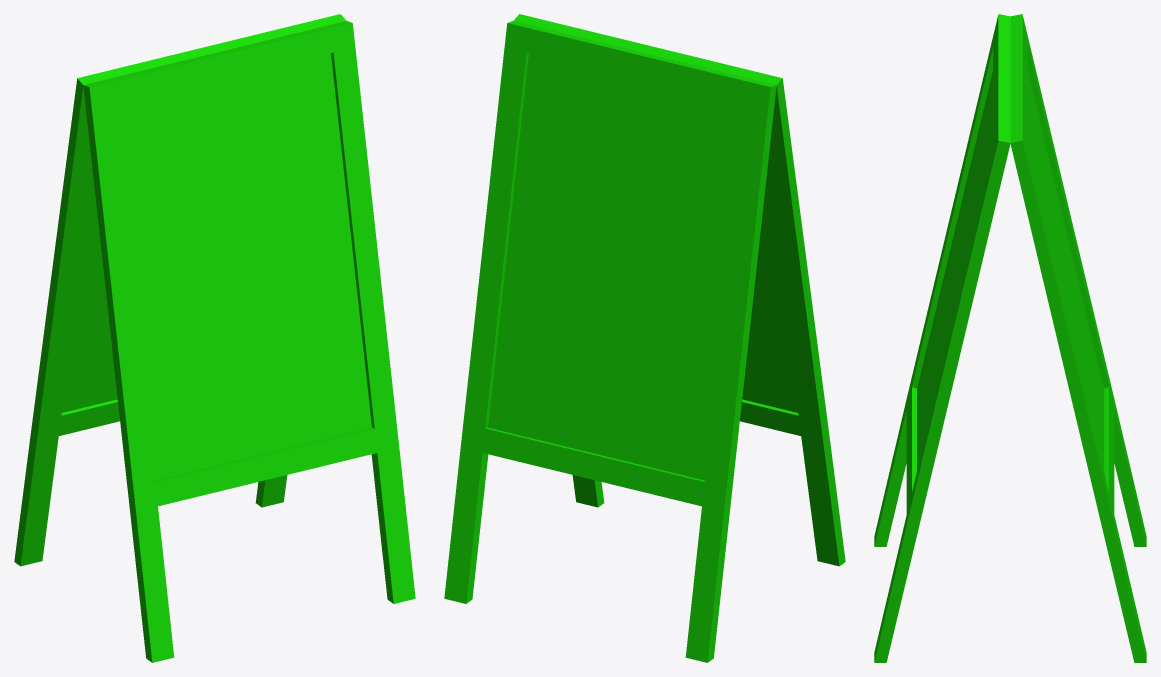
File: SM_town_stand.fbx
3 renders of one model, left to right at view 1: azimuth 30°, elevation 25°; view 2: azimuth 150°, elevation 25°; view 3: azimuth 270°, elevation 25°, orthographic.
Visible parts, largest first — view 1: stand_low.001; view 2: stand_low.001; view 3: stand_low.001.
Part boxes in pixels (x1,y1,x2,y2): stand_low.001: (14, 14, 415, 662); stand_low.001: (444, 14, 845, 662); stand_low.001: (874, 14, 1146, 662).
Bounding box in the file's own units: 48 × 92.28 × 43.59.
